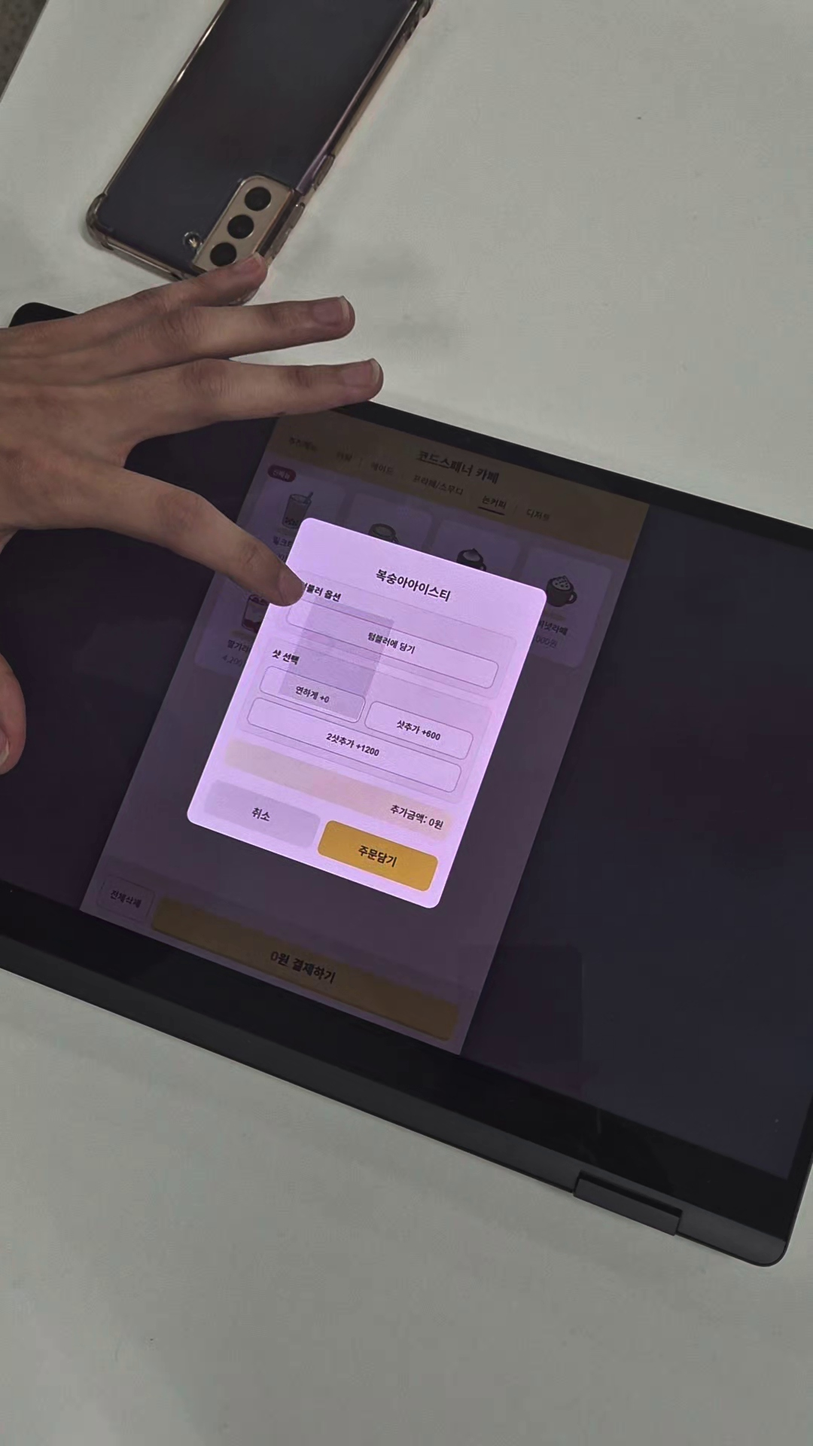action_button: (315, 819, 439, 894), (203, 778, 320, 848)
menu_name: (366, 559, 457, 607)
option_button: (245, 697, 463, 795), (286, 597, 501, 692), (362, 699, 476, 762), (257, 665, 368, 725)
popup_modal: (179, 514, 557, 914)
